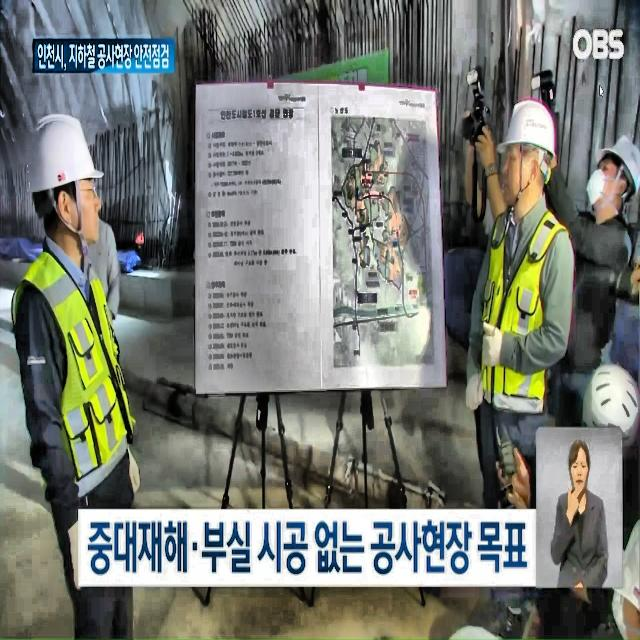safety_helmet: (580, 357, 640, 476), (28, 117, 98, 199), (502, 94, 571, 176), (602, 125, 640, 213)
safety_jacket: (466, 208, 596, 464), (22, 260, 170, 472)
